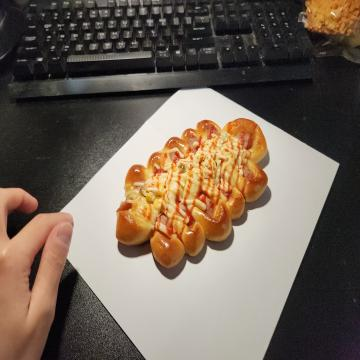pizza_bread: (113, 117, 269, 269)
